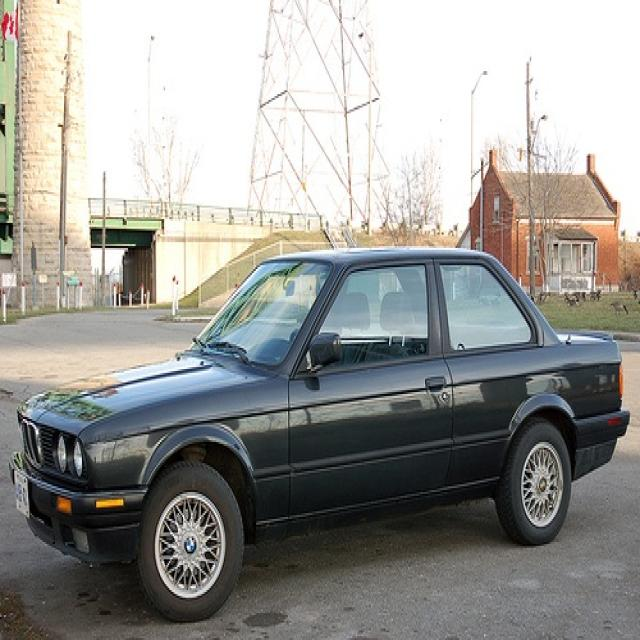car: (5, 242, 630, 627)
